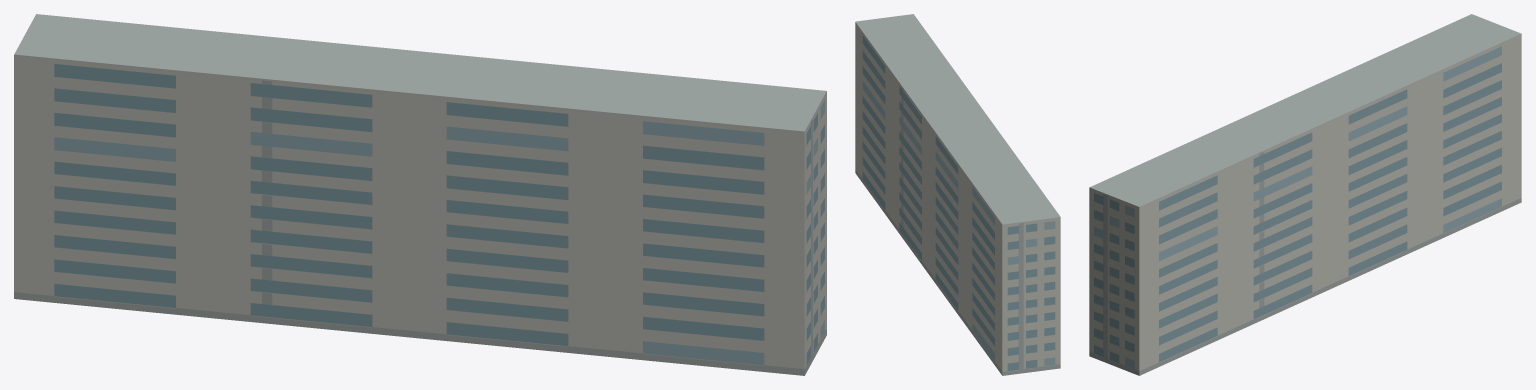
File: residential-386c22e8-d68f-4d17-9ab7-2fe5557e07c6.glb
The picture shows the model from 3 angles, left to right: view 1: azimuth 30°, elevation 25°; view 2: azimuth 150°, elevation 25°; view 3: azimuth 270°, elevation 25°; orthographic projection. The views are drawn at different scales.
Visible parts, largest first — view 1: residential-386c22e8-d68f-4d17-9ab7-2fe5557e07c6.tmp; view 2: residential-386c22e8-d68f-4d17-9ab7-2fe5557e07c6.tmp; view 3: residential-386c22e8-d68f-4d17-9ab7-2fe5557e07c6.tmp.
Boxes of the visible parts, left/top/right/bottom form: residential-386c22e8-d68f-4d17-9ab7-2fe5557e07c6.tmp: left=14, top=14, right=826, bottom=375; residential-386c22e8-d68f-4d17-9ab7-2fe5557e07c6.tmp: left=855, top=14, right=1060, bottom=375; residential-386c22e8-d68f-4d17-9ab7-2fe5557e07c6.tmp: left=1089, top=14, right=1521, bottom=375.
Size of the model in its own units: 74.74 by 30.5 by 70.71.
